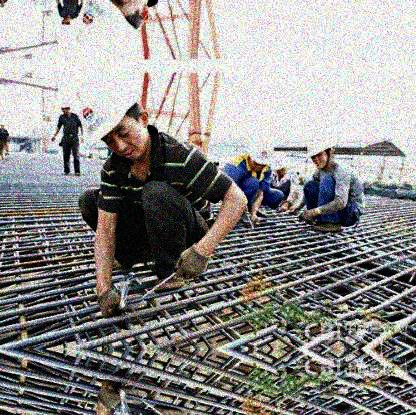helmet: (79, 86, 154, 164), (78, 1, 153, 47), (247, 136, 275, 174), (306, 137, 335, 170), (272, 154, 289, 176), (60, 13, 72, 33), (59, 100, 72, 115)
